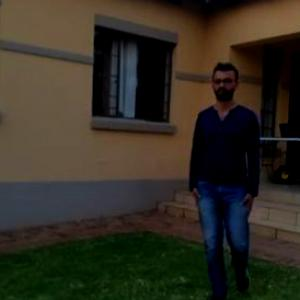follow: (188, 71, 258, 289)
